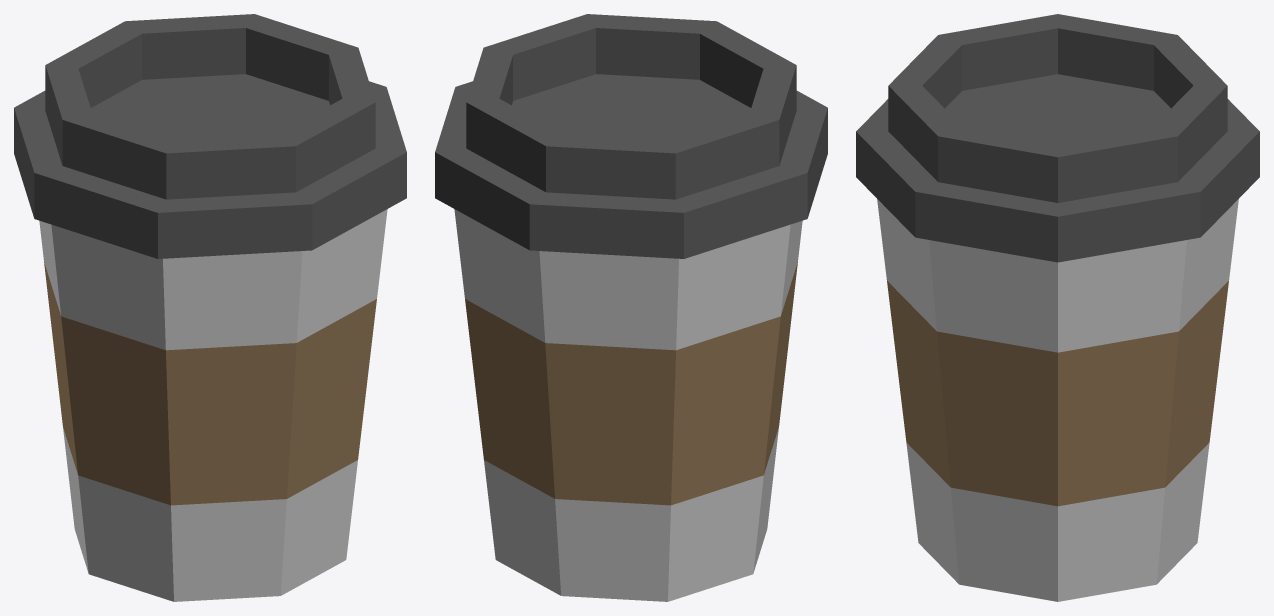
File: Coffee.fbx
3 views of the same model, side by side, from view 1: azimuth 30°, elevation 25°; view 2: azimuth 150°, elevation 25°; view 3: azimuth 270°, elevation 25° (orthographic).
Visible parts, largest first — view 1: Coffee; view 2: Coffee; view 3: Coffee.
Part boxes in pixels (bbox=[...]): Coffee: bbox=[14, 14, 406, 601]; Coffee: bbox=[435, 14, 827, 601]; Coffee: bbox=[856, 14, 1259, 601].
Bounding box in the file's own units: 0.4 × 0.5 × 0.4.
1 material, 1 textured.
